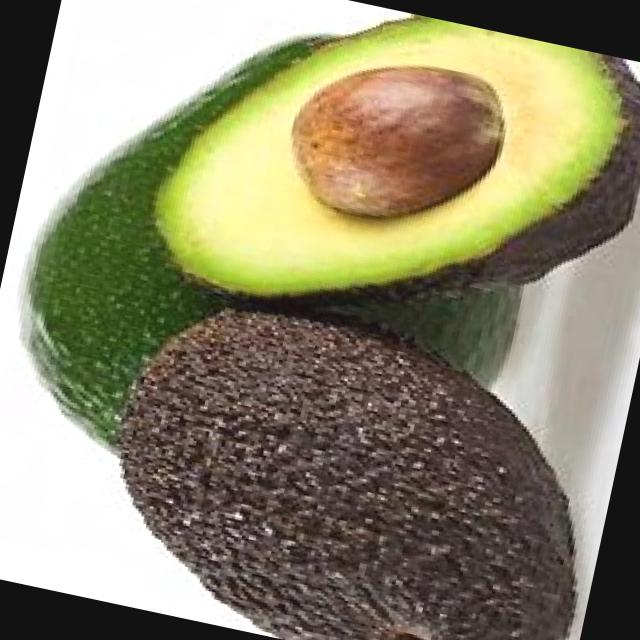avocado: (137, 0, 640, 381), (88, 291, 616, 640)
